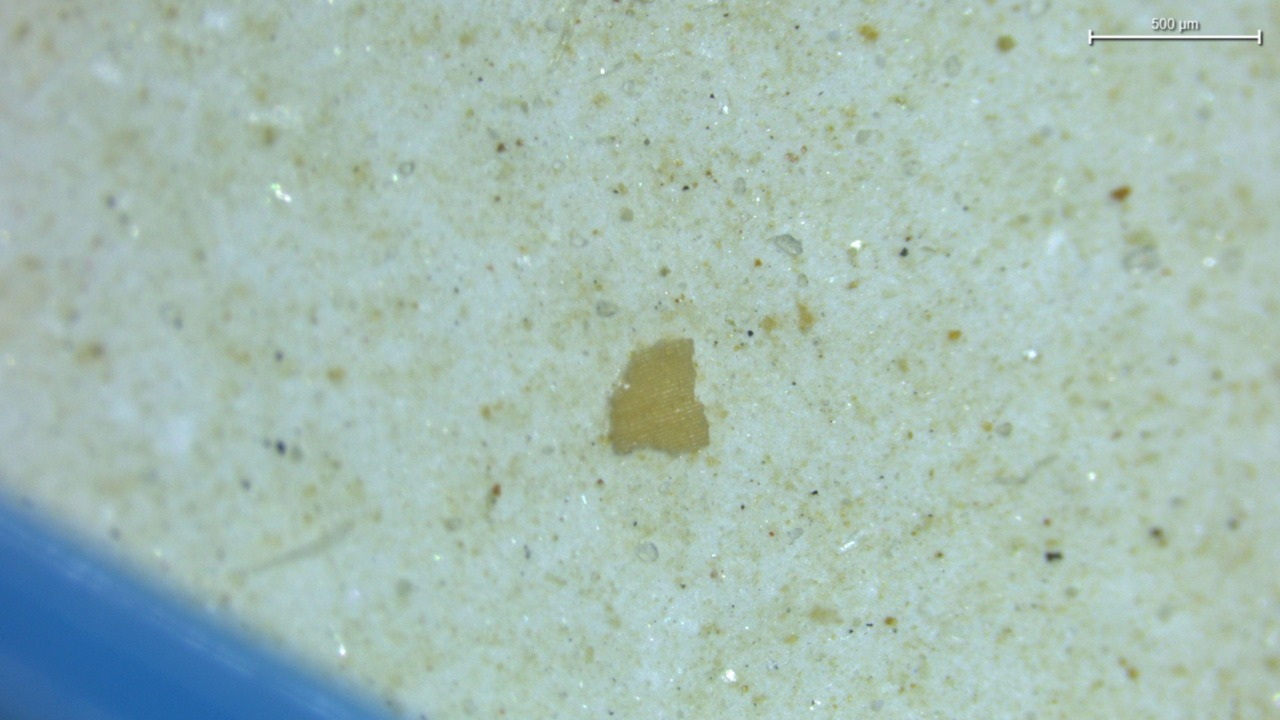microplastic_fragment: (609, 338, 709, 453)
